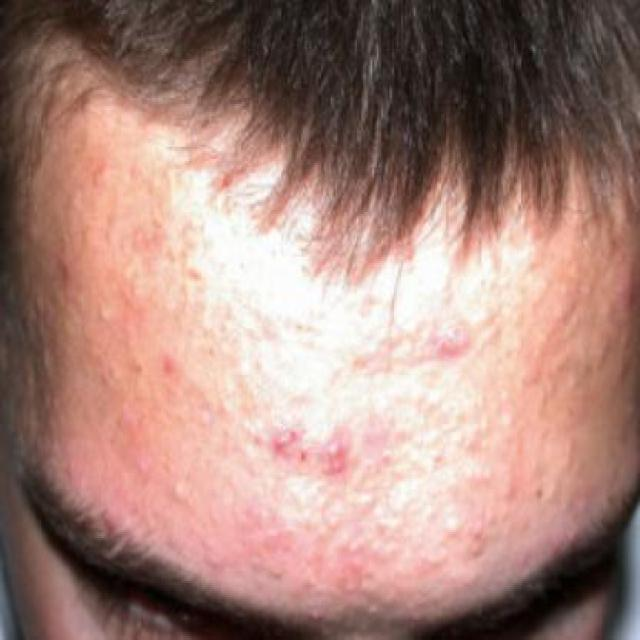Acne: (434, 310, 478, 361), (155, 334, 188, 379), (323, 428, 350, 478)
Whiteheads: (435, 508, 468, 546), (557, 426, 591, 457), (336, 530, 370, 560), (160, 479, 194, 503), (472, 408, 494, 444), (90, 298, 118, 326), (362, 601, 388, 629), (555, 450, 574, 475), (505, 414, 523, 430), (305, 605, 320, 623)
